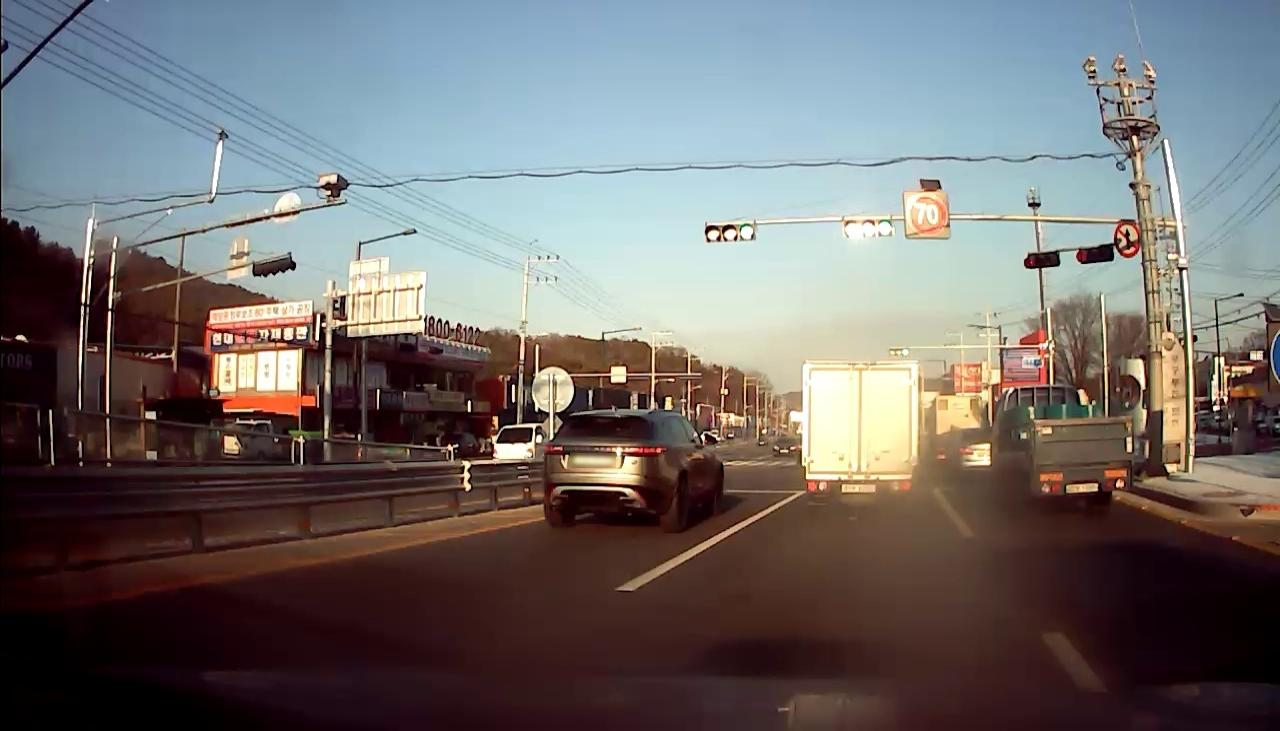Green Light: (876, 217, 896, 239), (739, 220, 756, 242)
Red Light: (1022, 252, 1038, 272), (1074, 245, 1089, 266)
